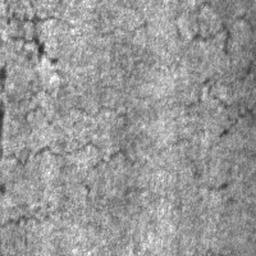Crazing: (0, 0, 256, 231), (174, 0, 256, 56), (94, 19, 148, 38), (0, 183, 6, 196)
